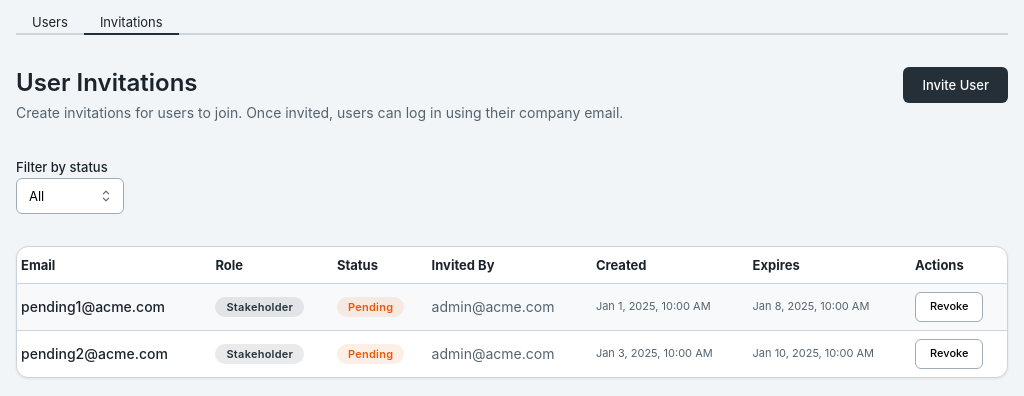
InvitationsPage › shows empty state when filter matches no invitations
Expected: the table with test id "invitations-table" is shown, x1=17 y1=247 x2=1007 y2=377
Select "Revoked" in the dropdown with test id "status-filter" at [70, 196], box x1=16 y1=178 x2=124 y2=214
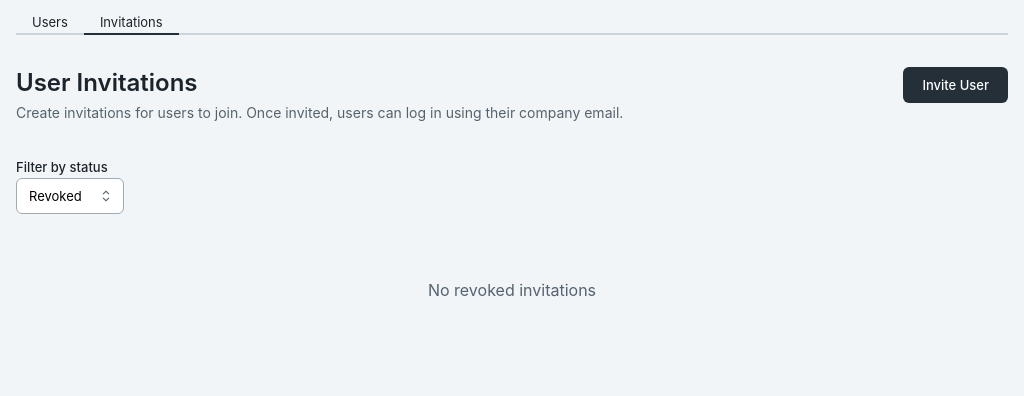
Result: the table with test id "invitations-table" is gone
Result: the text "No revoked invitations" is shown at x1=428 y1=278 x2=596 y2=303
